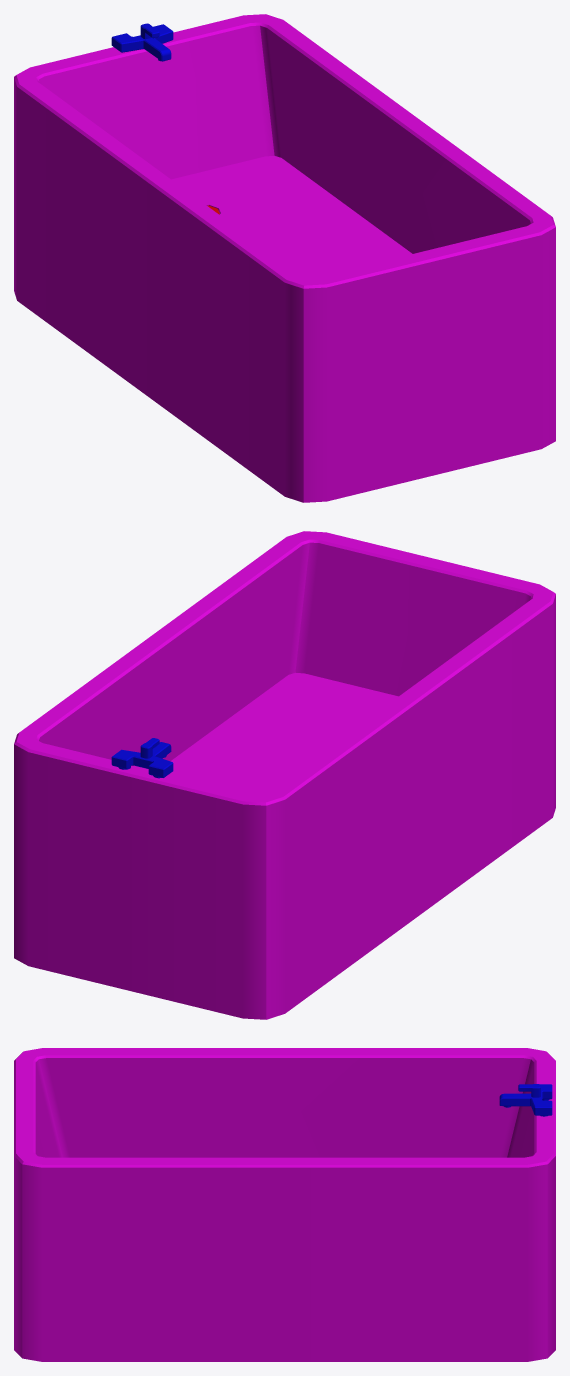
The model's file is Mesh_Baignoire.fbx.
The picture shows the model from 3 angles, top to bottom: view 1: azimuth 30°, elevation 25°; view 2: azimuth 150°, elevation 25°; view 3: azimuth 270°, elevation 25°; orthographic projection. The views are drawn at different scales.
Visible parts, largest first — view 1: Mesh_baignoire; view 2: Mesh_baignoire; view 3: Mesh_baignoire.
Boxes of the visible parts, bbox=[...] form: Mesh_baignoire: bbox=[14, 14, 555, 502]; Mesh_baignoire: bbox=[14, 531, 555, 1019]; Mesh_baignoire: bbox=[14, 1048, 555, 1361].
Size of the model in its own units: 99.94 by 85.19 by 193.
